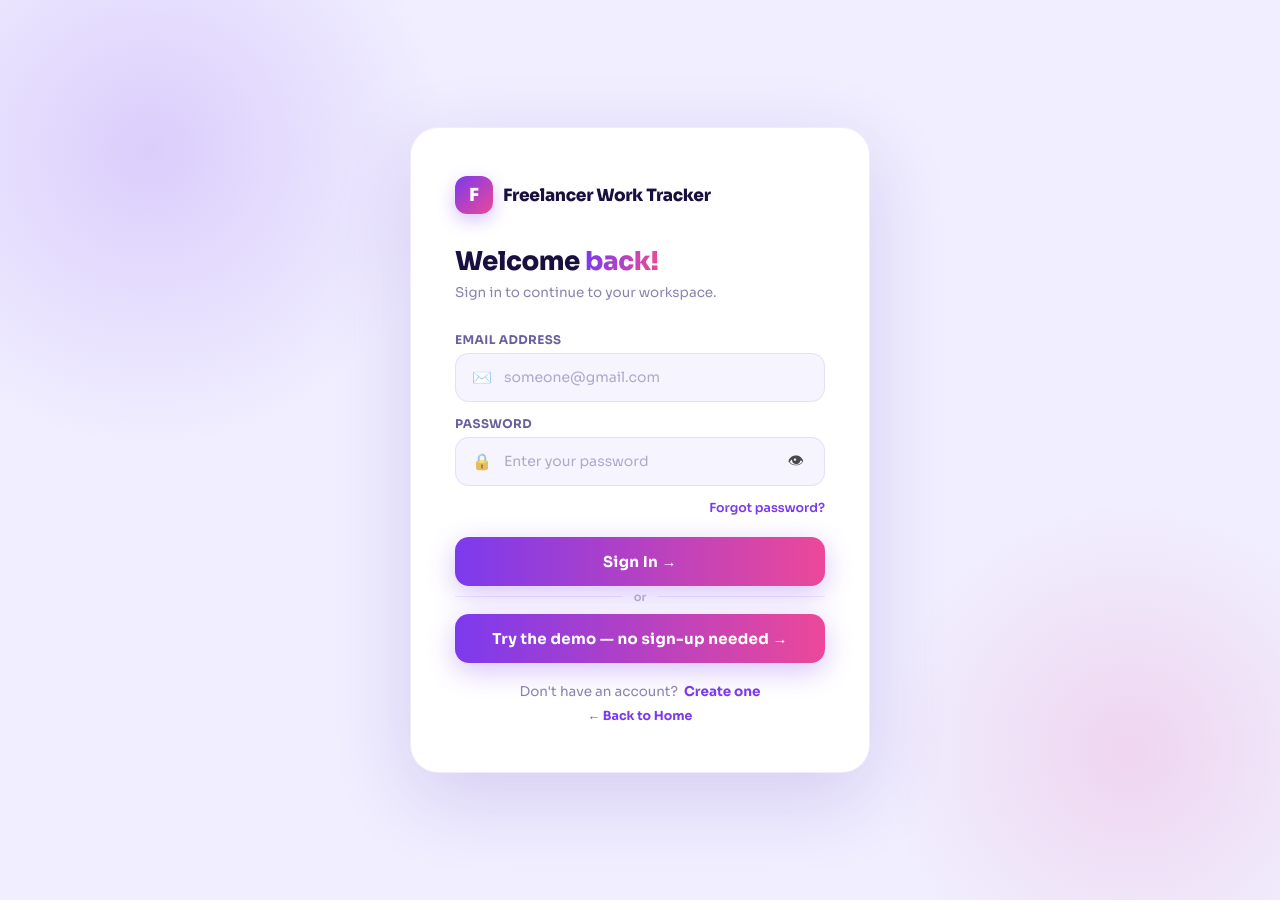
Test case: freelancer demo button › one click: POST /auth/demo-login (no credentials), token stored, lands on the dashboard
Click the button "Try the demo — no sign-up needed →" at (640, 638), box [455,614,825,663]
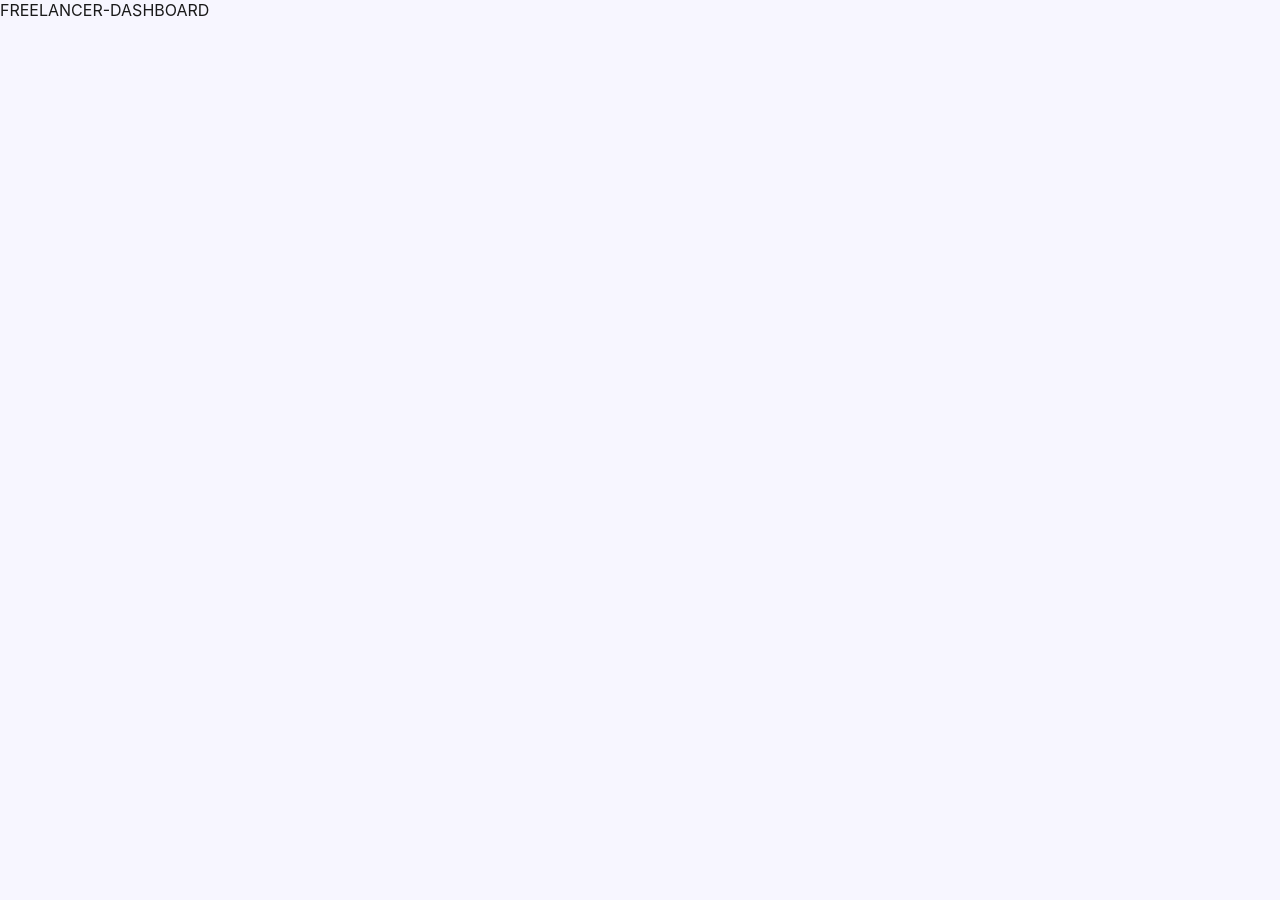
Expected: the text "FREELANCER-DASHBOARD" is shown, [0,0,209,20]
